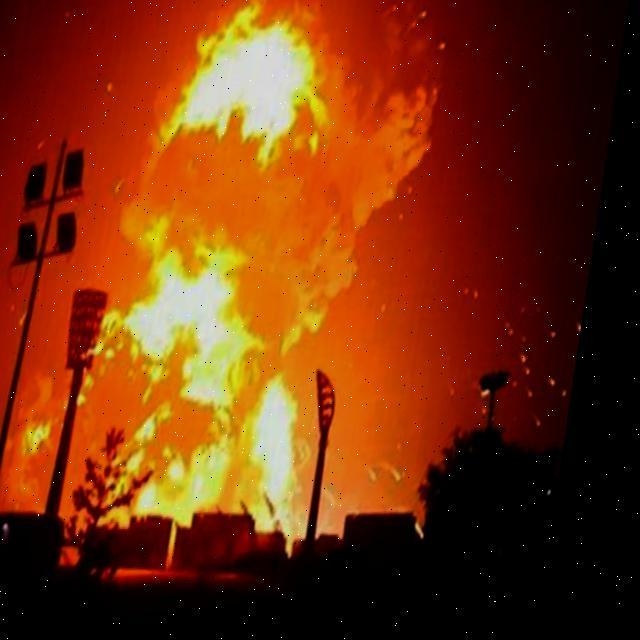Fire: (88, 2, 381, 572)
